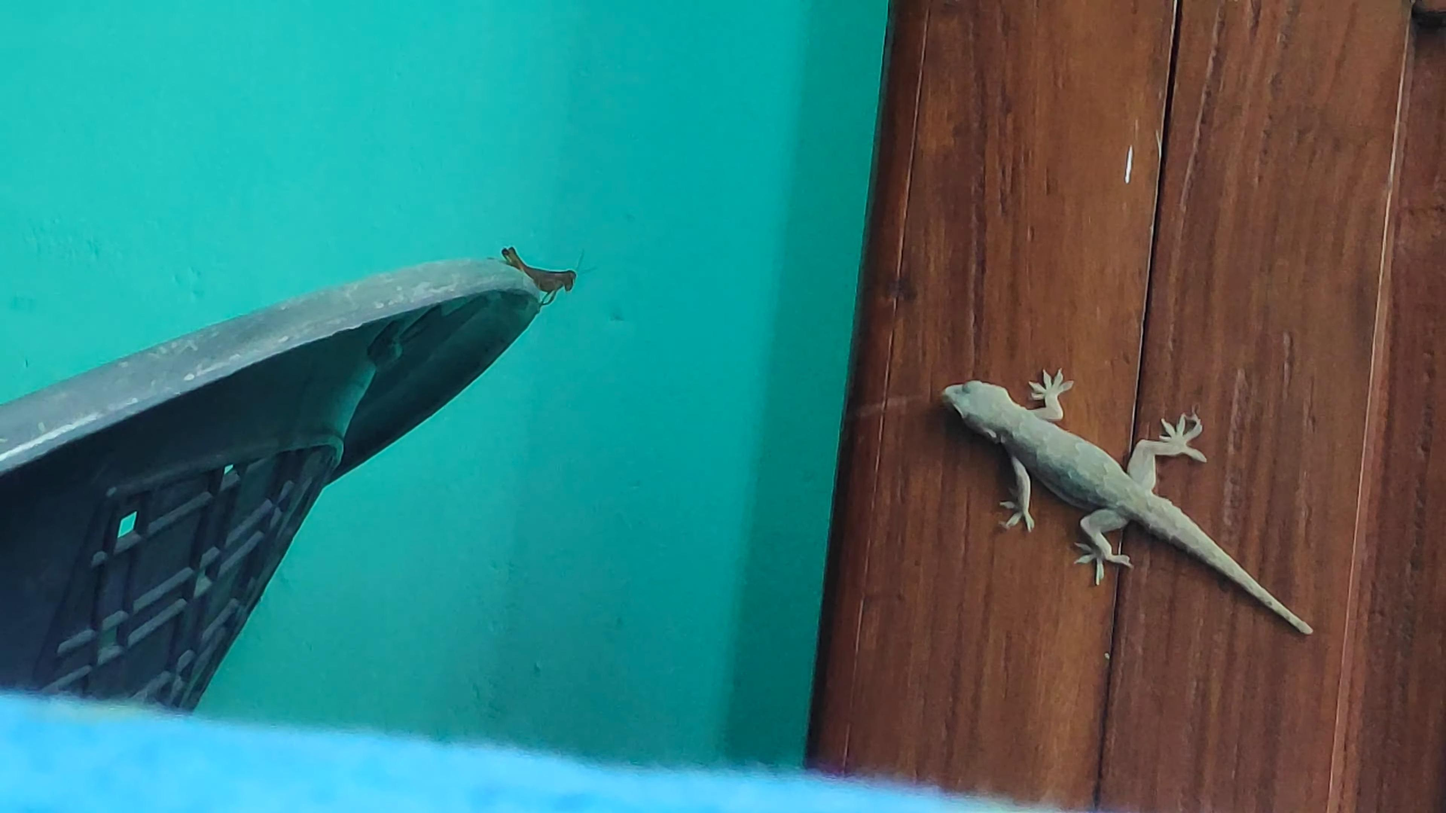lizard: (934, 365, 1314, 640)
